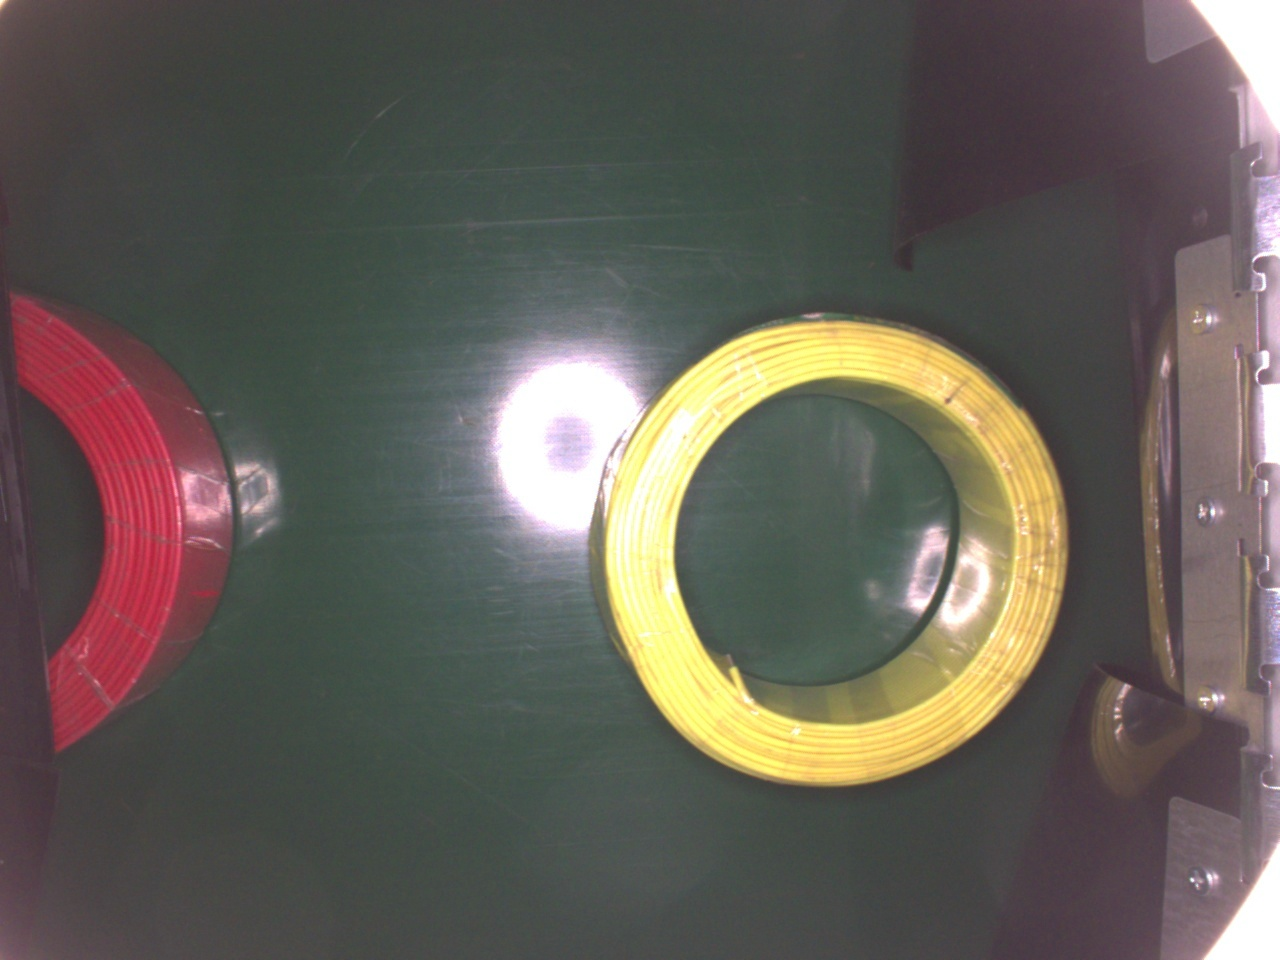red: (8, 277, 238, 760)
yellow: (588, 309, 1070, 787)
